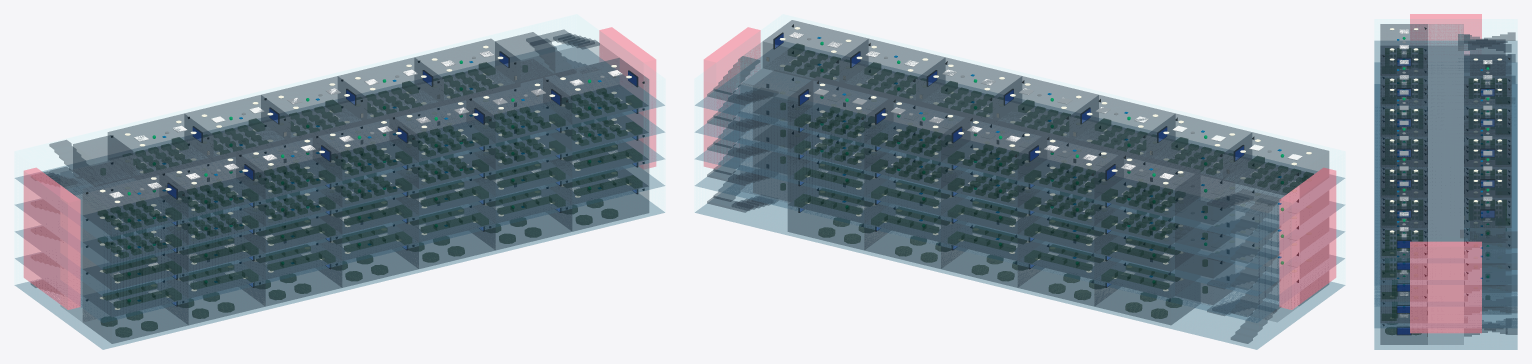
The model's file is Building_Campus.glb.
3 views of the same model, side by side, from view 1: azimuth 30°, elevation 25°; view 2: azimuth 150°, elevation 25°; view 3: azimuth 270°, elevation 25° (orthographic). The views are drawn at different scales.
Parts seen in each view (by area): view 1: Arch:FLOOR (×5), Arch:CORRIDOR, object 2114, object 2115, Arch:WALL_L5-B1, Arch:WALL_L5-B5, Arch:WALL_L5-T1, Arch:WALL_L5-B6, Arch:WALL_L5-B2, Arch:WALL_L5-B4, Arch:WALL_L5-B3, Arch:WALL_L5-B7 (+35 smaller); view 2: Arch:FLOOR (×5), Arch:RESTROOM (×8), Arch:CORRIDOR, object 2114, object 2115, Arch:WALL_L5-T1, Arch:WALL_L5-T4, Arch:WALL_L5-T5, Arch:WALL_L5-T3, Arch:WALL_L5-T2, Arch:WALL_L5-B1, Arch:WALL_L5-B3 (+28 smaller); view 3: Arch:FLOOR (×5), Arch:CORRIDOR (×3), object 2116, object 2117, Arch:RESTROOM (×5), Arch:WALL_L5-B7, Arch:WALL_L5-T5, Arch:WALL_L5-T4, Arch:WALL_L5-B5, Arch:WALL_L5-B2, Arch:WALL_L5-T1, Arch:WALL_L5-B6 (+27 smaller).
Part boxes in pixels (left/top/right/bottom): Arch:FLOOR (×5): left=15, top=44, right=664, bottom=349; Arch:CORRIDOR: left=61, top=42, right=618, bottom=214; object 2114: left=24, top=168, right=79, bottom=309; object 2115: left=24, top=168, right=79, bottom=309; Arch:WALL_L5-B1: left=83, top=170, right=188, bottom=236; Arch:WALL_L5-B5: left=389, top=95, right=495, bottom=161; Arch:WALL_L5-T1: left=108, top=114, right=213, bottom=179; Arch:WALL_L5-B6: left=466, top=76, right=571, bottom=142; Arch:WALL_L5-B2: left=159, top=151, right=265, bottom=217; Arch:WALL_L5-B4: left=313, top=114, right=418, bottom=180; Arch:WALL_L5-B3: left=236, top=133, right=341, bottom=199; Arch:WALL_L5-B7: left=543, top=58, right=648, bottom=124; Arch:FLOOR (×5): left=695, top=41, right=1344, bottom=349; Arch:RESTROOM (×8): left=753, top=70, right=1234, bottom=304; Arch:CORRIDOR: left=741, top=42, right=1298, bottom=214; object 2114: left=1280, top=168, right=1335, bottom=309; object 2115: left=1280, top=168, right=1335, bottom=309; Arch:WALL_L5-T1: left=1094, top=151, right=1200, bottom=217; Arch:WALL_L5-T4: left=864, top=95, right=970, bottom=161; Arch:WALL_L5-T5: left=788, top=76, right=893, bottom=142; Arch:WALL_L5-T3: left=941, top=114, right=1046, bottom=180; Arch:WALL_L5-T2: left=1018, top=133, right=1123, bottom=199; Arch:WALL_L5-B1: left=1223, top=132, right=1328, bottom=198; Arch:WALL_L5-B3: left=1069, top=95, right=1175, bottom=160; Arch:FLOOR (×5): left=1374, top=41, right=1517, bottom=349; Arch:CORRIDOR (×3): left=1428, top=24, right=1463, bottom=344; object 2116: left=1410, top=242, right=1481, bottom=332; object 2117: left=1410, top=242, right=1481, bottom=332; Arch:RESTROOM (×5): left=1470, top=39, right=1505, bottom=307; Arch:WALL_L5-B7: left=1380, top=206, right=1427, bottom=257; Arch:WALL_L5-T5: left=1464, top=176, right=1511, bottom=227; Arch:WALL_L5-T4: left=1464, top=145, right=1511, bottom=197; Arch:WALL_L5-B5: left=1380, top=145, right=1427, bottom=197; Arch:WALL_L5-B2: left=1380, top=54, right=1427, bottom=105; Arch:WALL_L5-T1: left=1464, top=54, right=1511, bottom=105; Arch:WALL_L5-B6: left=1380, top=176, right=1427, bottom=227.
Bounding box in the file's own units: 92 × 20.01 × 24.
